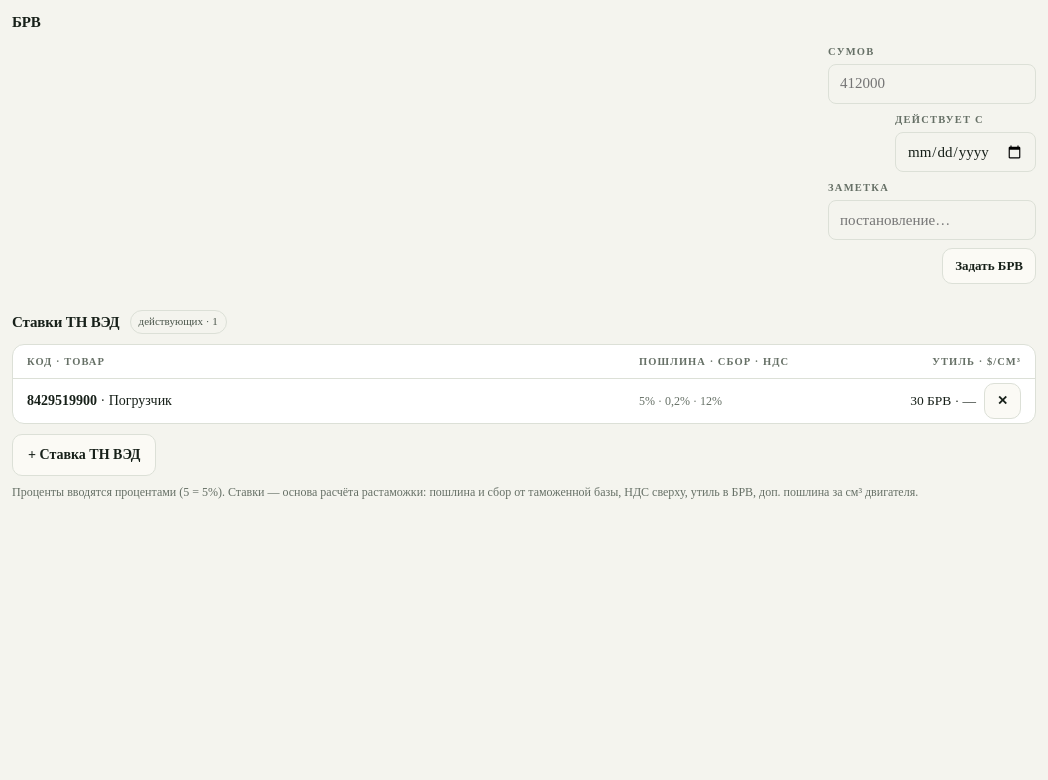
it: таможенные формы › показывает ошибку деактивации и не обновляет страницу
Click the button "✕": (1003, 401) x1=984 y1=383 x2=1021 y2=419
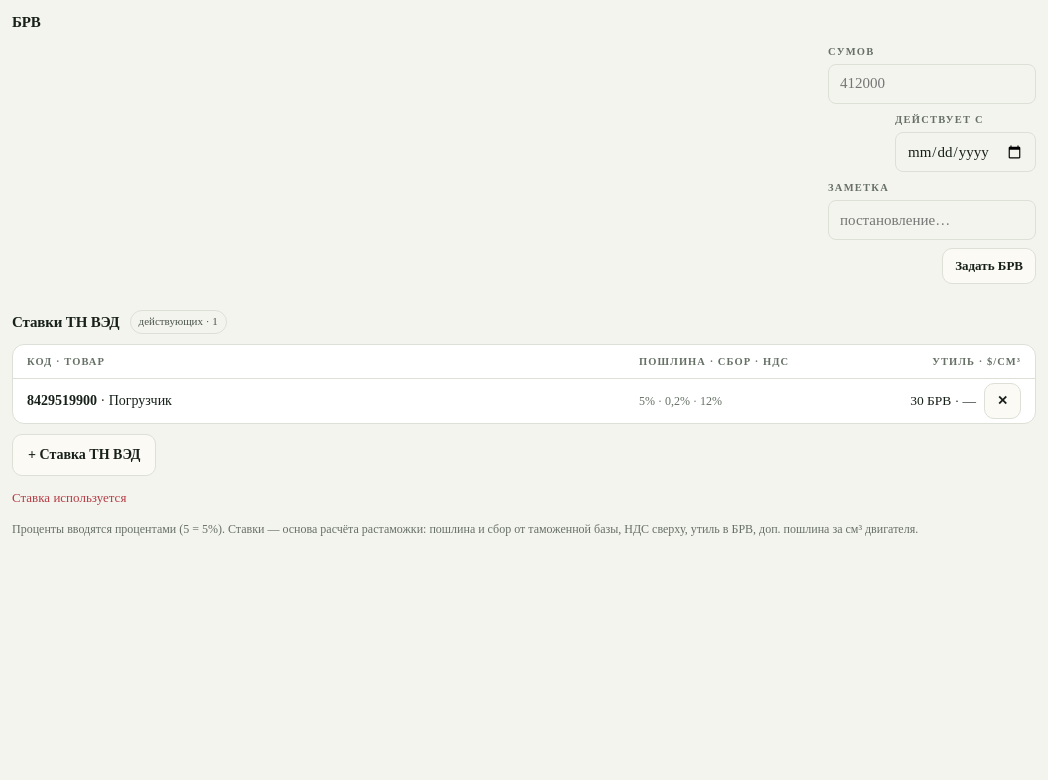
Now the text "Ставка используется" is shown, box x1=12 y1=490 x2=126 y2=505
